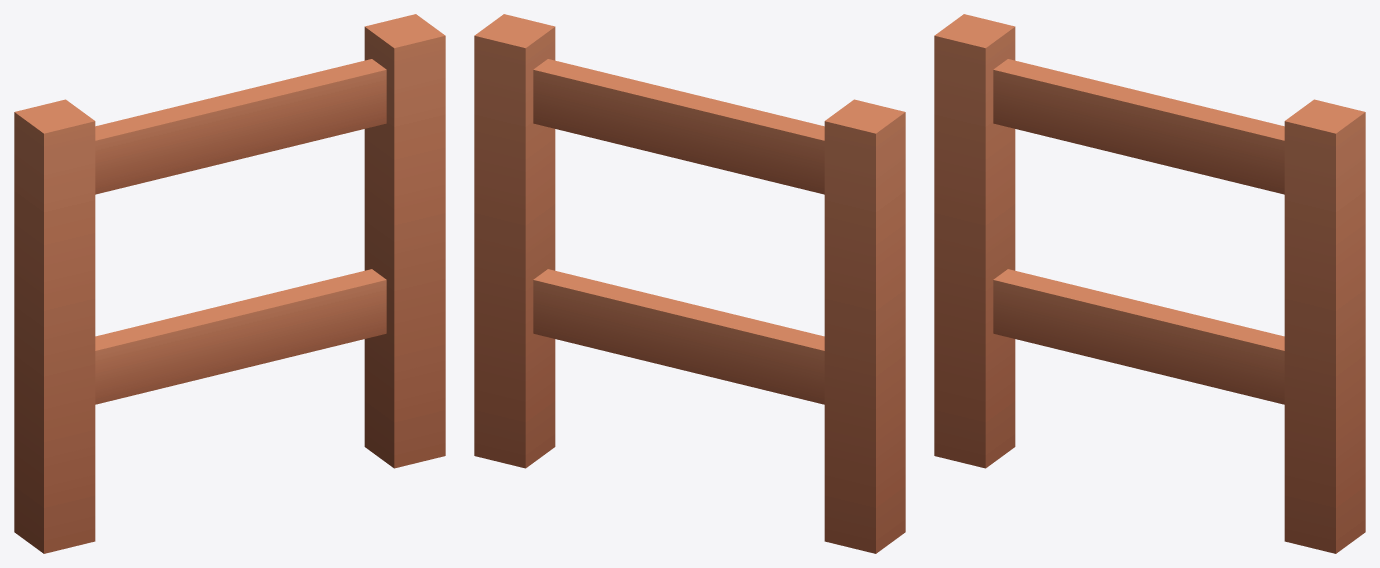
File: wood-structure-high-part.glb
3 views of the same model, side by side, from view 1: azimuth 30°, elevation 25°; view 2: azimuth 150°, elevation 25°; view 3: azimuth 330°, elevation 25° (orthographic).
Visible parts, largest first — view 1: wood-structure-high-part; view 2: wood-structure-high-part; view 3: wood-structure-high-part.
Boxes of the visible parts, x1=… form: wood-structure-high-part: x1=14, y1=14, x2=445, y2=553; wood-structure-high-part: x1=474, y1=14, x2=905, y2=553; wood-structure-high-part: x1=934, y1=14, x2=1365, y2=553.
Size of the model in its own units: 1 by 1 by 0.1279.
Materials: 1 (1 with a texture image).
